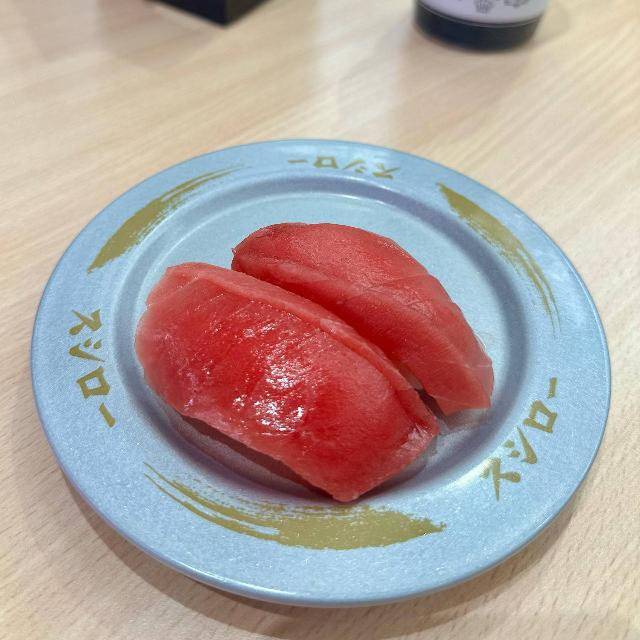janwhite: (39, 158, 640, 611)
